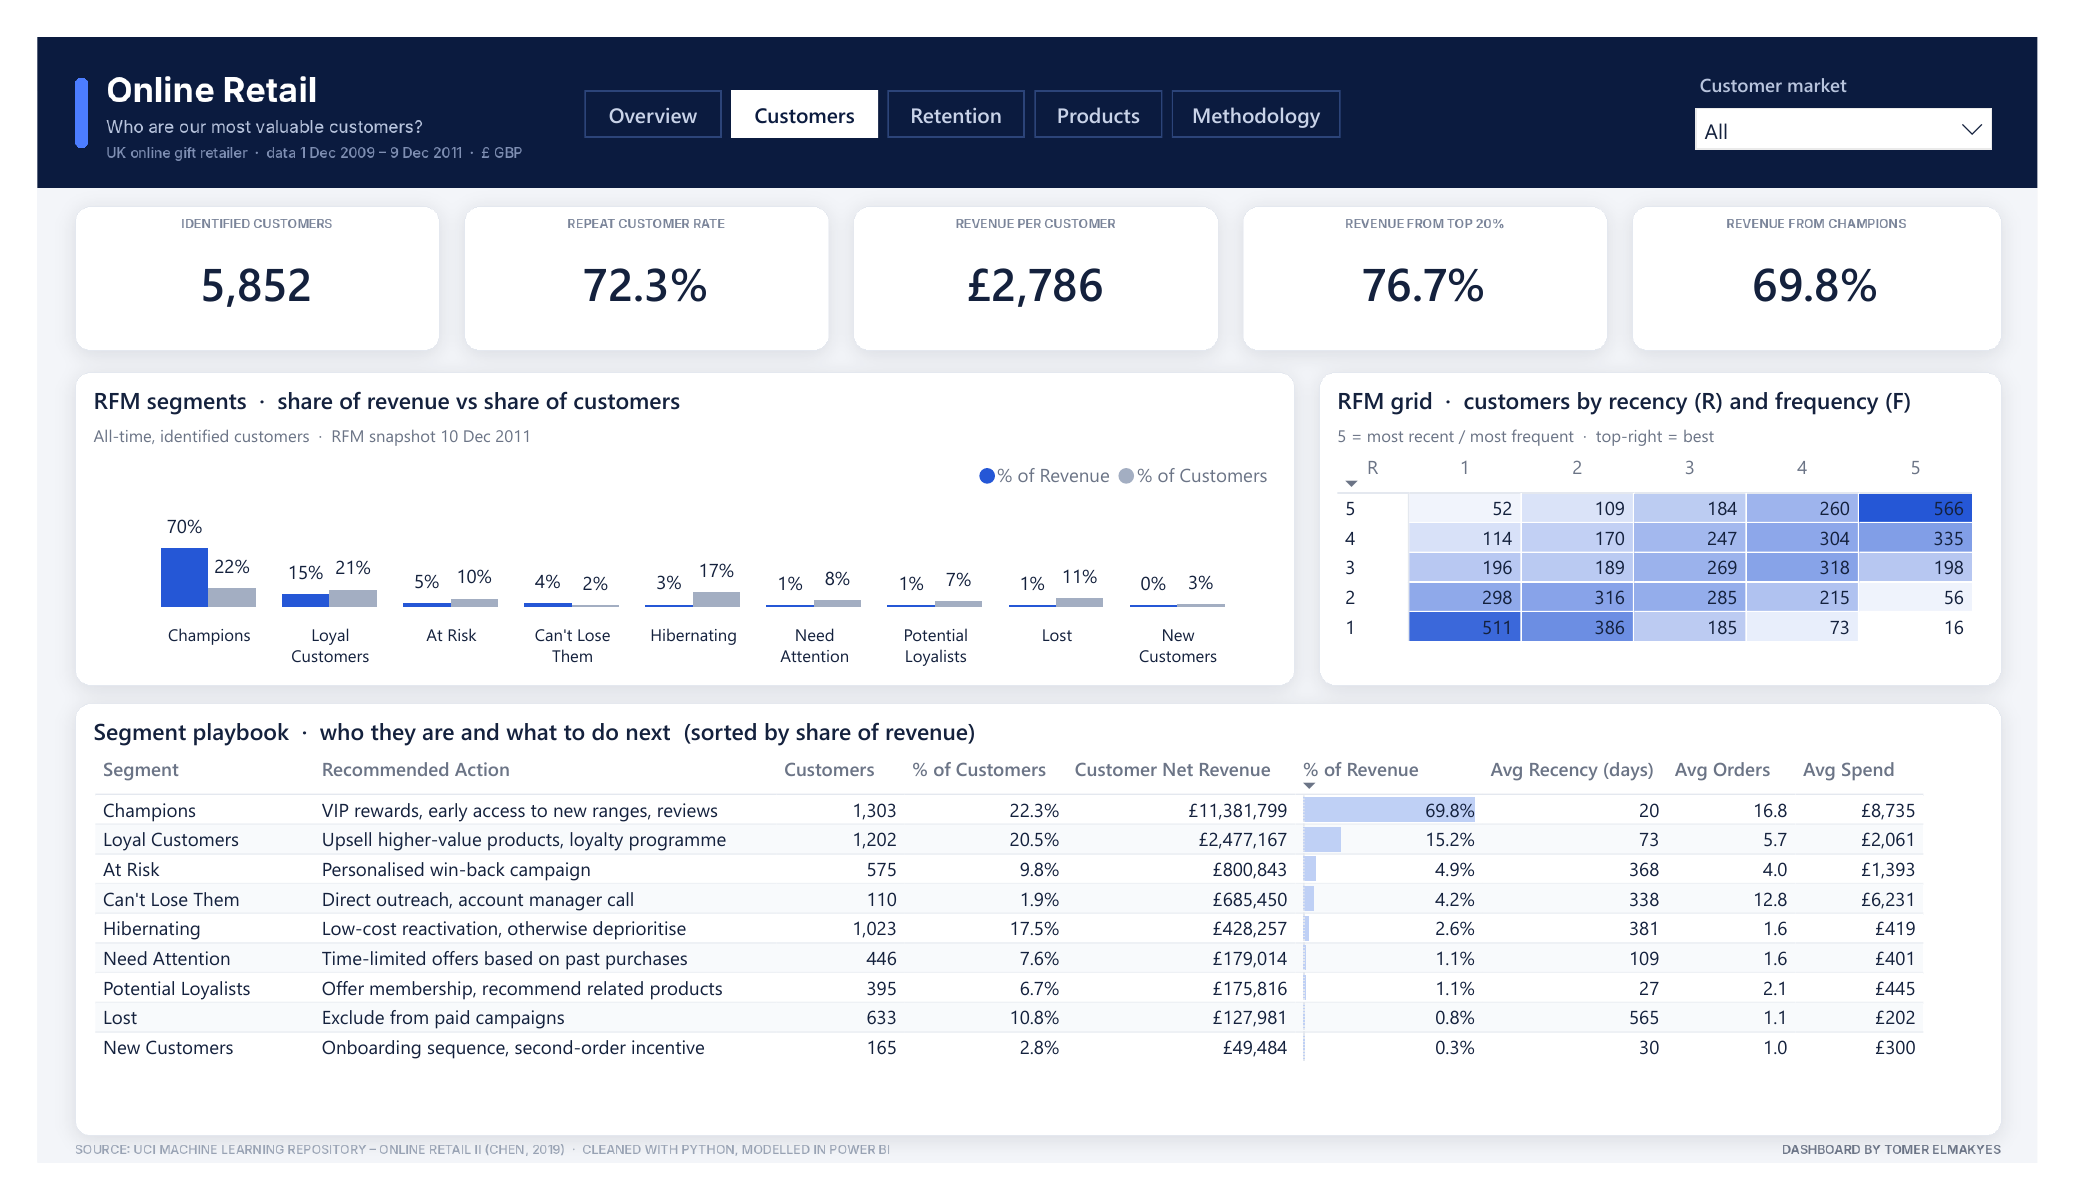

Layout of this report page (visuals, bound fields, positions):
{"tool":"powerbi","page":{"name":"Customers","canvas":[1280,720],"ordinal":1},"visuals":[{"type":"actionButton","box":[350,34,88,30],"z":2200},{"type":"actionButton","box":[444,34,94,30],"z":2300},{"type":"actionButton","box":[544,34,88,30],"z":2400},{"type":"actionButton","box":[638,34,82,30],"z":2500},{"type":"actionButton","box":[726,34,108,30],"z":2600},{"type":"slicer","fields":{"Values":["Customer.Market"]},"box":[1056,22,200,62],"z":2700},{"type":"card","fields":{"Values":["_Measures.Customers"]},"box":[24,132,233,52],"z":2800},{"type":"card","fields":{"Values":["_Measures.Repeat Customer Rate"]},"box":[273,132,233,52],"z":2900},{"type":"card","fields":{"Values":["_Measures.Avg Revenue per Customer"]},"box":[522,132,233,52],"z":3000},{"type":"card","fields":{"Values":["_Measures.Top 20% Revenue Share"]},"box":[771,132,233,52],"z":3100},{"type":"card","fields":{"Values":["_Measures.Champions Revenue Share"]},"box":[1020,132,236,52],"z":3200},{"type":"clusteredColumnChart","title":"RFM segments  ·  share of revenue vs share of customers","fields":{"Category":["Segment.Segment"],"Y":["_Measures.% of Revenue","_Measures.% of Customers"]},"box":[24,214,780,200],"z":3300},{"type":"pivotTable","title":"RFM grid  ·  customers by recency (R) and frequency (F)","fields":{"Rows":["Customer.R"],"Columns":["Customer.F"],"Values":["_Measures.Customers"]},"box":[820,214,436,200],"z":3400},{"type":"tableEx","title":"Segment playbook  ·  who they are and what to do next  (sorted by share of revenue)","fields":{"Values":["Segment.Segment","Segment.Recommended Action","_Measures.Customers","_Measures.% of Customers","_Measures.Customer Net Revenue","_Measures.% of Revenue","_Measures.Avg Recency (days)","_Measures.Avg Orders","_Measures.Avg Spend"]},"box":[24,426,1232,276],"z":3500}]}

Visuals, with their boxes on the page's 1280x720 design canvas (x1, y1, x2, y2). These are canvas units, not pixel positions in the 2075x1200 screenshot, which may show the page scaled, cropped or inside an application window:
actionButton: x1=350, y1=34, x2=438, y2=64
actionButton: x1=444, y1=34, x2=538, y2=64
actionButton: x1=544, y1=34, x2=632, y2=64
actionButton: x1=638, y1=34, x2=720, y2=64
actionButton: x1=726, y1=34, x2=834, y2=64
slicer - Customer.Market: x1=1056, y1=22, x2=1256, y2=84
card - _Measures.Customers: x1=24, y1=132, x2=257, y2=184
card - _Measures.Repeat Customer Rate: x1=273, y1=132, x2=506, y2=184
card - _Measures.Avg Revenue per Customer: x1=522, y1=132, x2=755, y2=184
card - _Measures.Top 20% Revenue Share: x1=771, y1=132, x2=1004, y2=184
card - _Measures.Champions Revenue Share: x1=1020, y1=132, x2=1256, y2=184
"RFM segments  ·  share of revenue vs share of customers" clusteredColumnChart: x1=24, y1=214, x2=804, y2=414
"RFM grid  ·  customers by recency (R) and frequency (F)" pivotTable: x1=820, y1=214, x2=1256, y2=414
"Segment playbook  ·  who they are and what to do next  (sorted by share of revenue)" tableEx: x1=24, y1=426, x2=1256, y2=702
